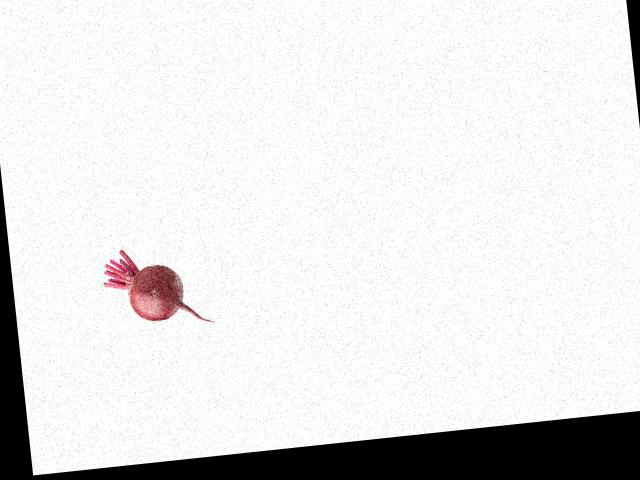beet: (100, 240, 213, 333)
